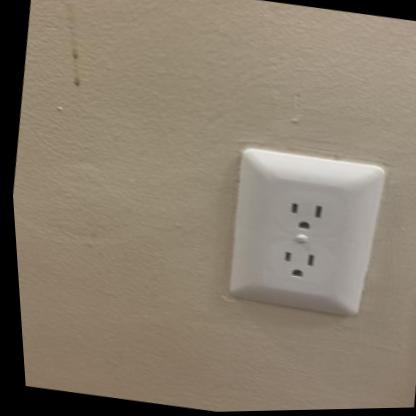OUTLET: (211, 141, 398, 326)
